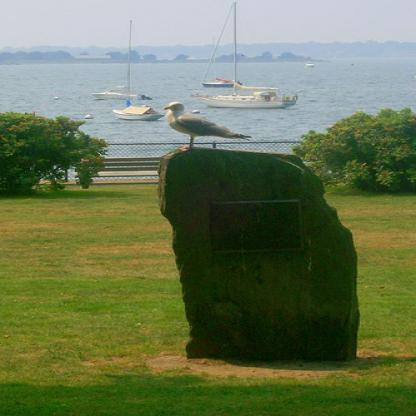bird: (160, 100, 255, 150)
boat: (188, 79, 300, 108), (111, 104, 166, 122), (91, 88, 154, 102), (201, 76, 245, 88), (305, 59, 315, 67)
